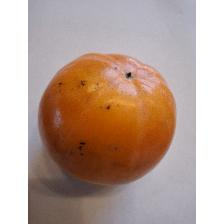Kaki: (34, 48, 180, 188)
